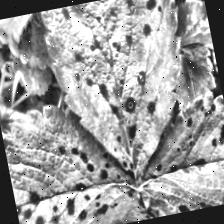Leaf Spot: (39, 0, 208, 193), (0, 87, 152, 224), (122, 88, 224, 220), (0, 11, 52, 51), (161, 0, 202, 7)
